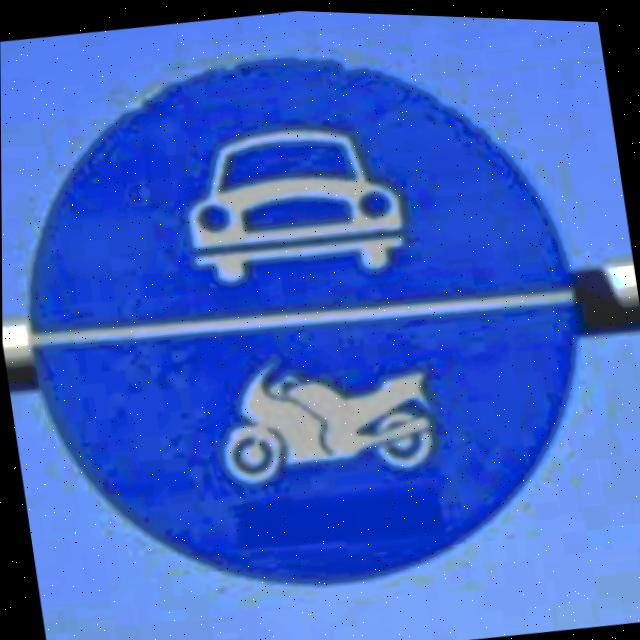carmotorcycle: (27, 57, 579, 586)
